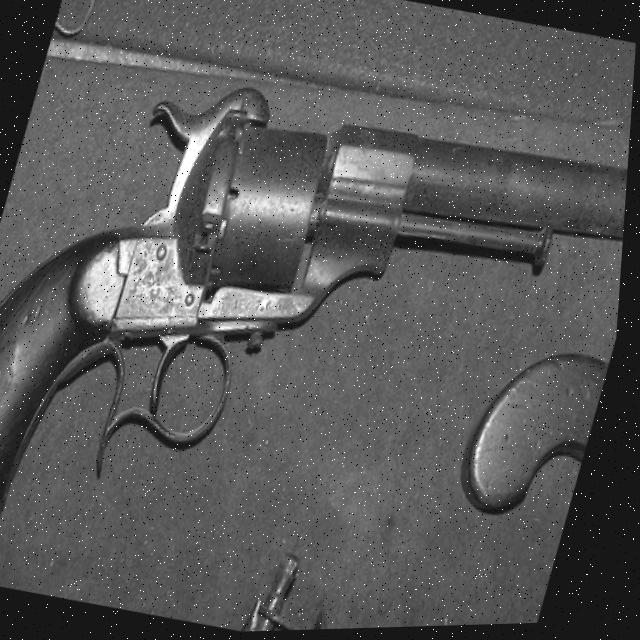pistol: (0, 32, 638, 640)
